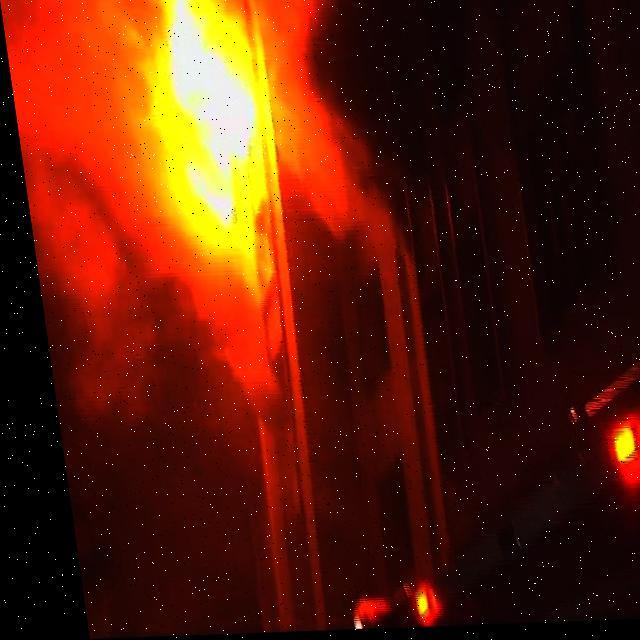Fire: (150, 2, 272, 241)
